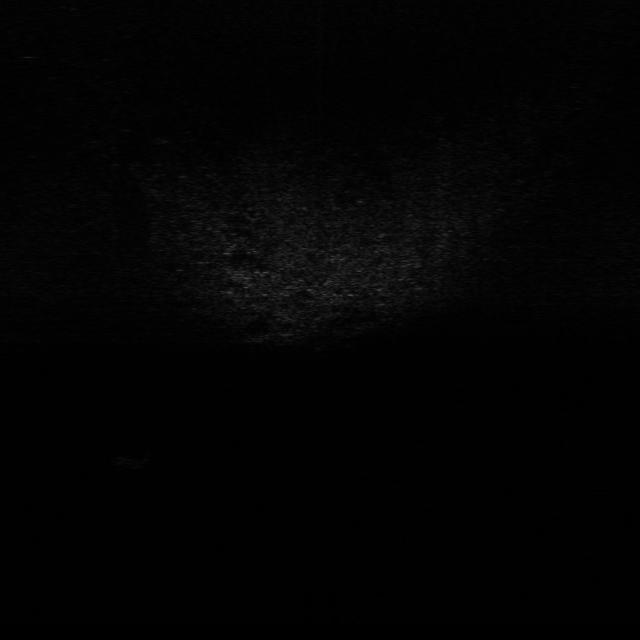cube: (116, 440, 154, 473)
